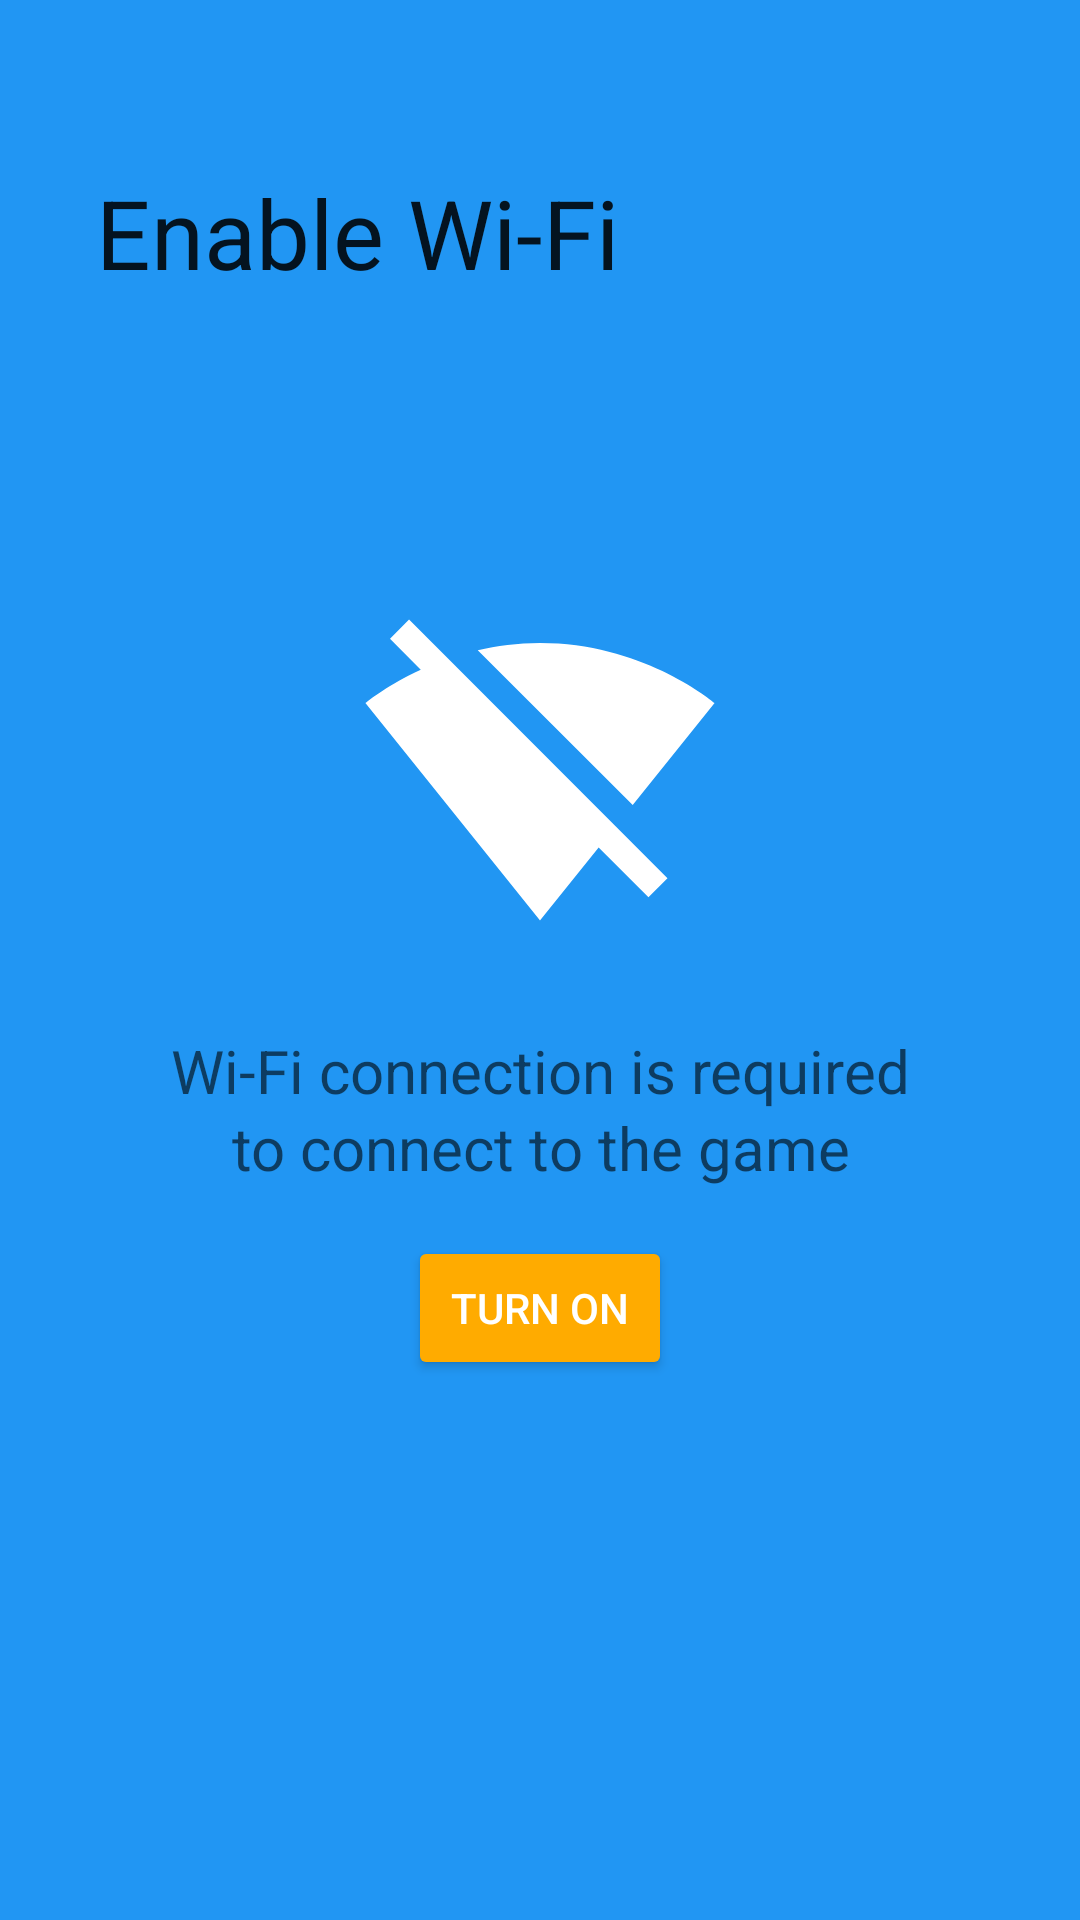

Where icons sit on this 1080 × 1920 app screen, as bbox(x1, y1, x2, y2):
No wifi: bbox(365, 619, 715, 920)
